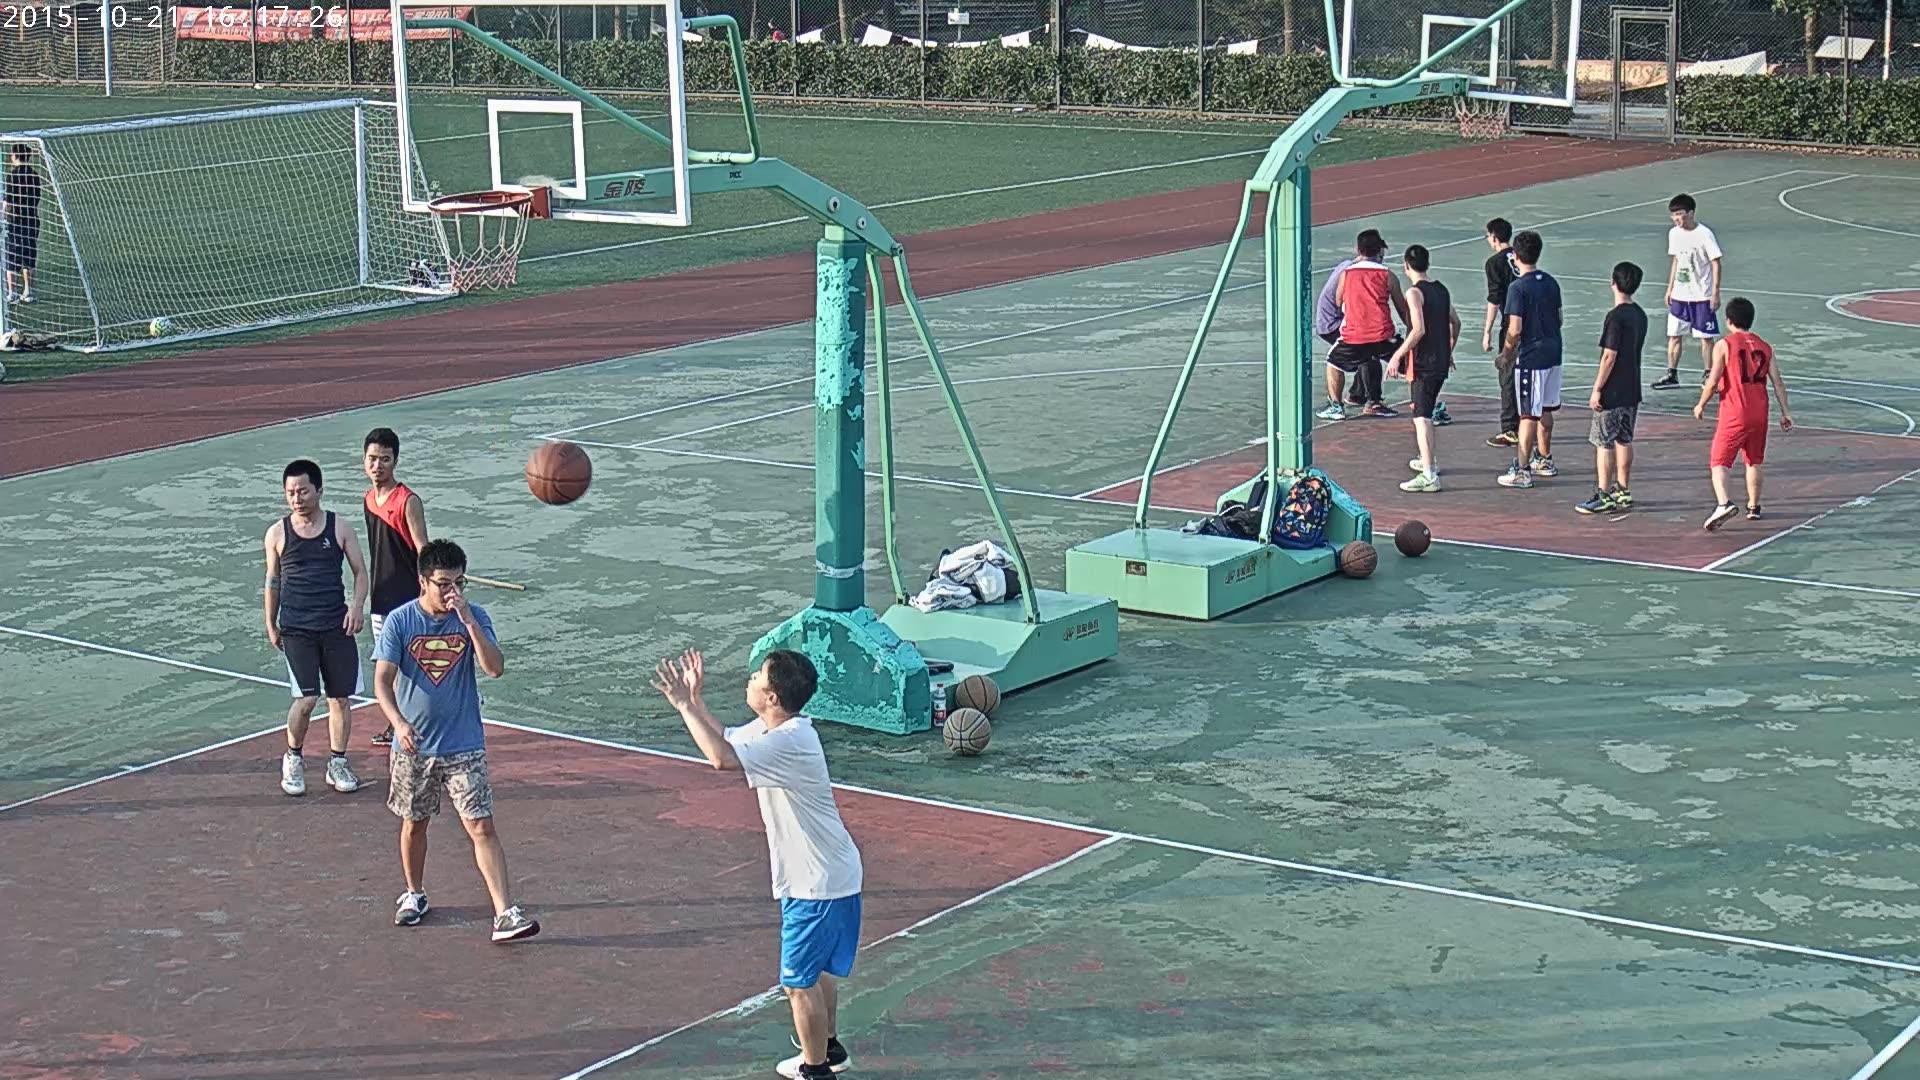person: (646, 646, 862, 1080), (368, 539, 540, 943), (263, 458, 368, 795), (1316, 235, 1456, 425), (1693, 296, 1795, 532), (361, 427, 431, 746), (1383, 245, 1460, 492), (1574, 260, 1647, 514), (1495, 231, 1562, 488), (1315, 229, 1400, 416), (1650, 193, 1723, 390), (1482, 217, 1524, 447), (2, 141, 40, 303)
